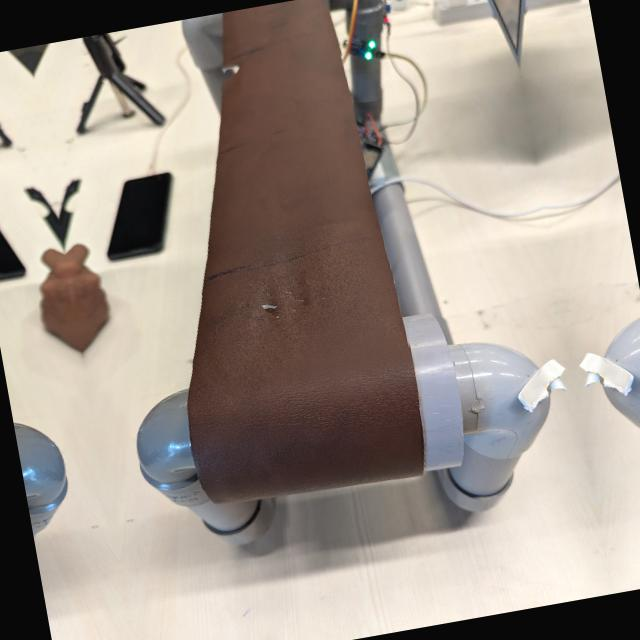belt_tear: (231, 271, 321, 338), (221, 58, 242, 87)
